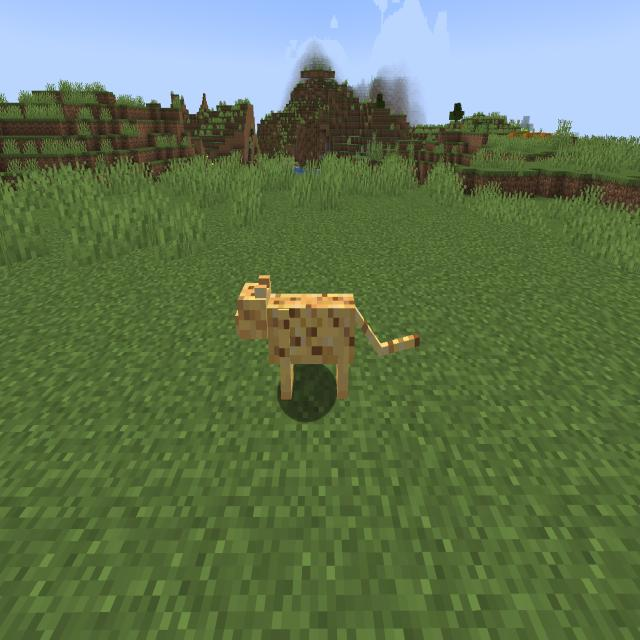Ocelot: (228, 262, 424, 418)
